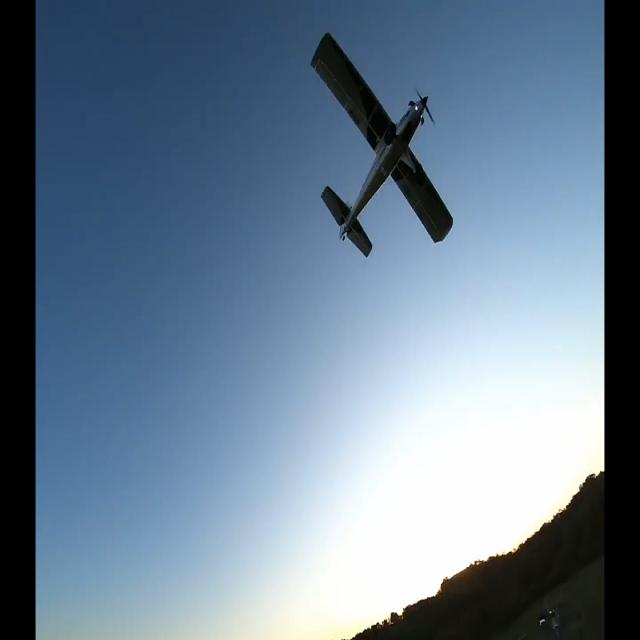iha: (310, 28, 454, 262)
